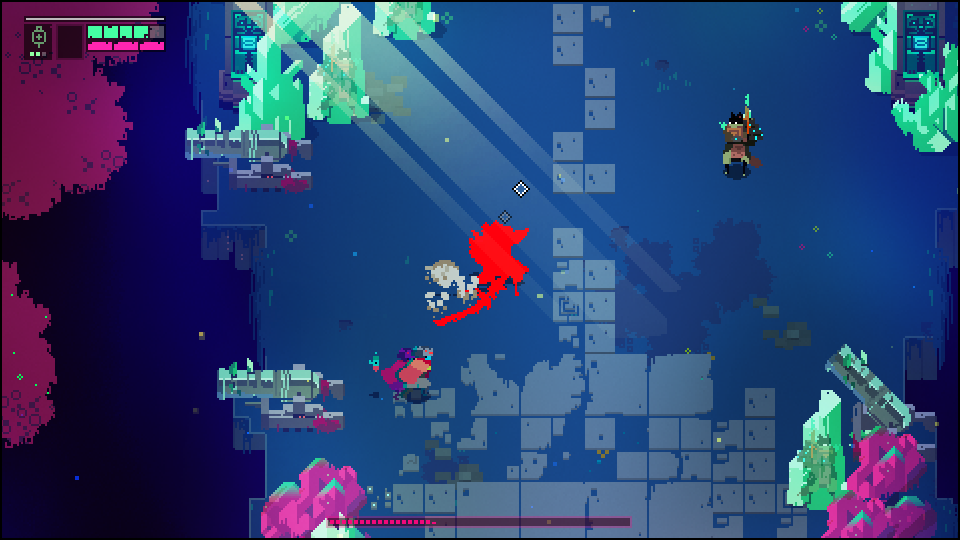hanged_man: (450, 218, 538, 319)
player: (397, 340, 438, 399)
